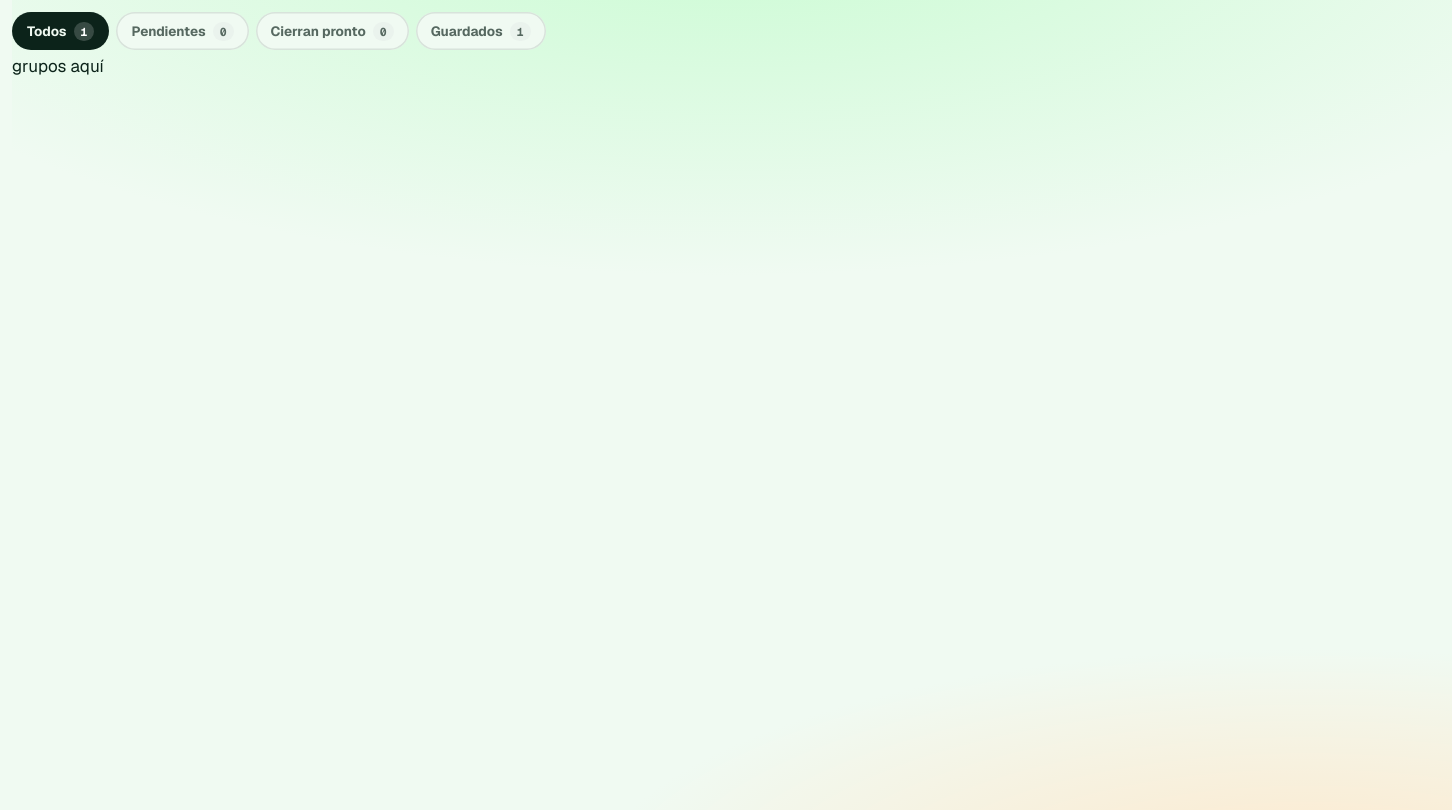
Test: FilteredGroupsOrEmpty — Pendientes filter with 0 pending › shows EmptyState with pendientes message when count is 0
Click the button "Pendientes 0" at point(183, 31), box [116,12,249,50]
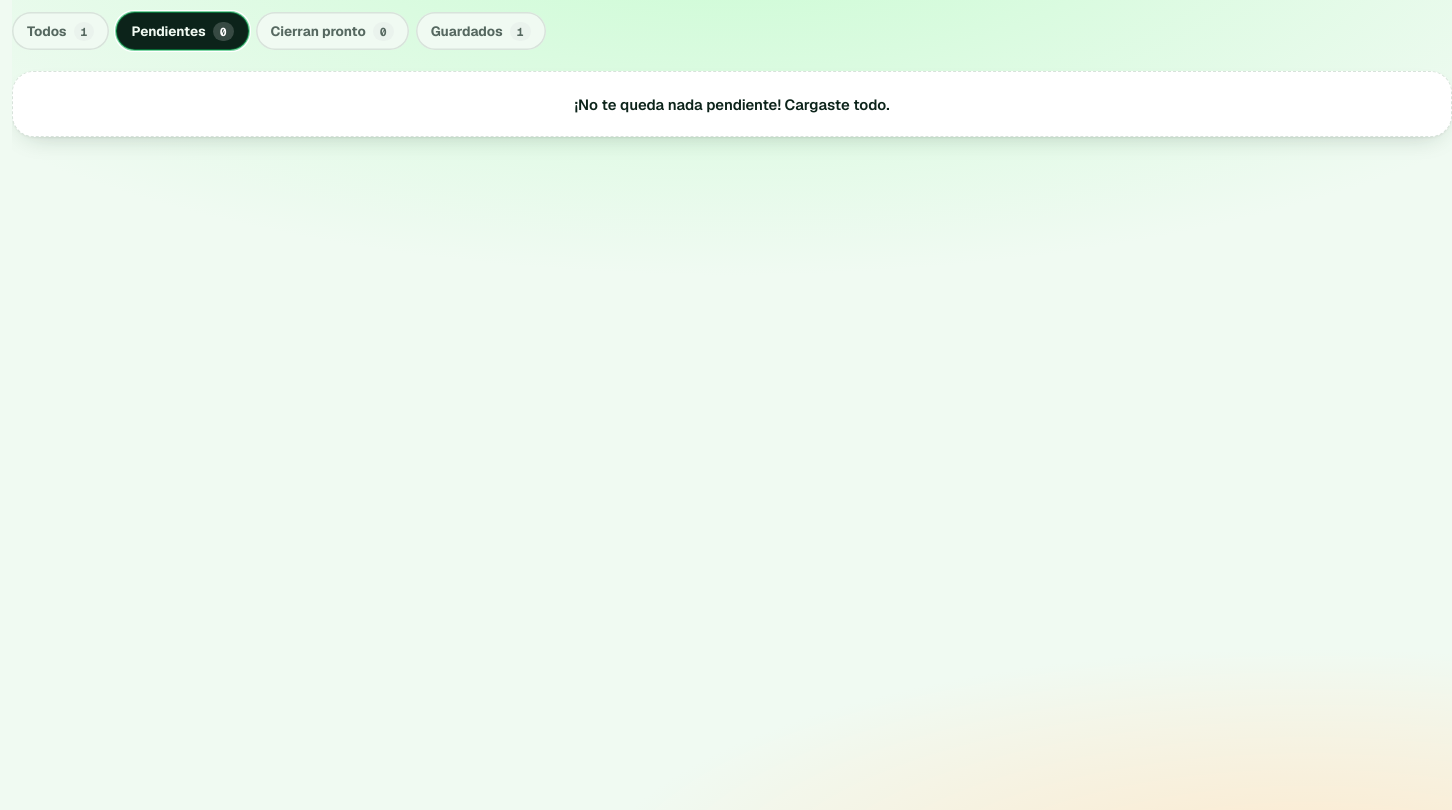
Expected: the text "¡No te queda nada pendiente! Cargaste todo." is shown, [574,94,890,114]
